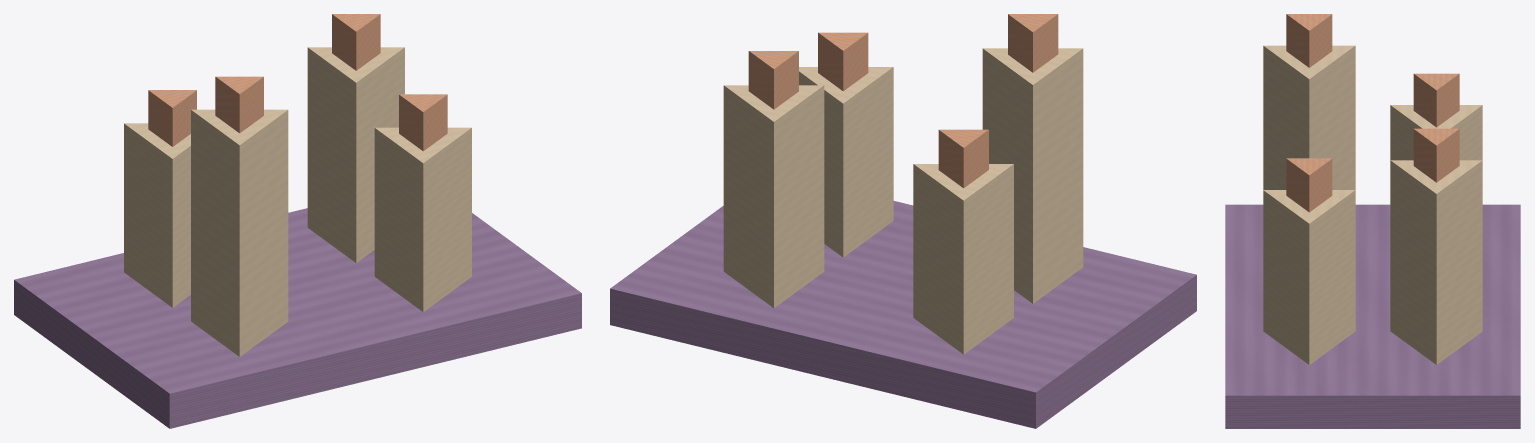
File: atlas100-s081-a04.lod2.glb
The picture shows the model from 3 angles, left to right: view 1: azimuth 30°, elevation 25°; view 2: azimuth 150°, elevation 25°; view 3: azimuth 270°, elevation 25°; orthographic projection. The views are drawn at different scales.
Parts seen in each view (by area): view 1: atlas100-s081-a04:part-000, atlas100-s081-a04:part-007, atlas100-s081-a04:part-010, atlas100-s081-a04:part-004, atlas100-s081-a04:part-001, atlas100-s081-a04:part-008, atlas100-s081-a04:part-011, atlas100-s081-a04:part-005, atlas100-s081-a04:part-002; view 2: atlas100-s081-a04:part-000, atlas100-s081-a04:part-004, atlas100-s081-a04:part-007, atlas100-s081-a04:part-001, atlas100-s081-a04:part-010, atlas100-s081-a04:part-002, atlas100-s081-a04:part-011, atlas100-s081-a04:part-008, atlas100-s081-a04:part-005; view 3: atlas100-s081-a04:part-000, atlas100-s081-a04:part-004, atlas100-s081-a04:part-010, atlas100-s081-a04:part-007, atlas100-s081-a04:part-001, atlas100-s081-a04:part-005, atlas100-s081-a04:part-011, atlas100-s081-a04:part-002, atlas100-s081-a04:part-008.
Boxes of the visible parts, x1,y1,x2,y2 form: atlas100-s081-a04:part-000: (14, 208, 581, 428); atlas100-s081-a04:part-007: (191, 109, 288, 356); atlas100-s081-a04:part-010: (374, 127, 471, 312); atlas100-s081-a04:part-004: (307, 47, 404, 262); atlas100-s081-a04:part-001: (124, 123, 190, 307); atlas100-s081-a04:part-008: (215, 76, 263, 133); atlas100-s081-a04:part-011: (399, 94, 447, 151); atlas100-s081-a04:part-005: (332, 14, 380, 70); atlas100-s081-a04:part-002: (148, 90, 196, 146); atlas100-s081-a04:part-000: (610, 201, 1196, 428); atlas100-s081-a04:part-004: (723, 85, 824, 307); atlas100-s081-a04:part-007: (982, 48, 1083, 303); atlas100-s081-a04:part-001: (913, 164, 1013, 354); atlas100-s081-a04:part-010: (799, 67, 893, 257); atlas100-s081-a04:part-002: (938, 129, 988, 188); atlas100-s081-a04:part-011: (818, 32, 868, 91); atlas100-s081-a04:part-008: (1008, 14, 1058, 72); atlas100-s081-a04:part-005: (748, 51, 798, 109); atlas100-s081-a04:part-000: (1225, 204, 1520, 428); atlas100-s081-a04:part-004: (1390, 160, 1482, 364); atlas100-s081-a04:part-010: (1263, 190, 1355, 364); atlas100-s081-a04:part-007: (1263, 45, 1355, 189); atlas100-s081-a04:part-001: (1390, 105, 1482, 160); atlas100-s081-a04:part-005: (1413, 128, 1459, 182); atlas100-s081-a04:part-011: (1286, 158, 1332, 212); atlas100-s081-a04:part-002: (1413, 73, 1459, 127); atlas100-s081-a04:part-008: (1286, 14, 1332, 67).
Size of the model in its own units: 1.18 by 0.7804 by 0.7697.
3 materials, 3 textured.
